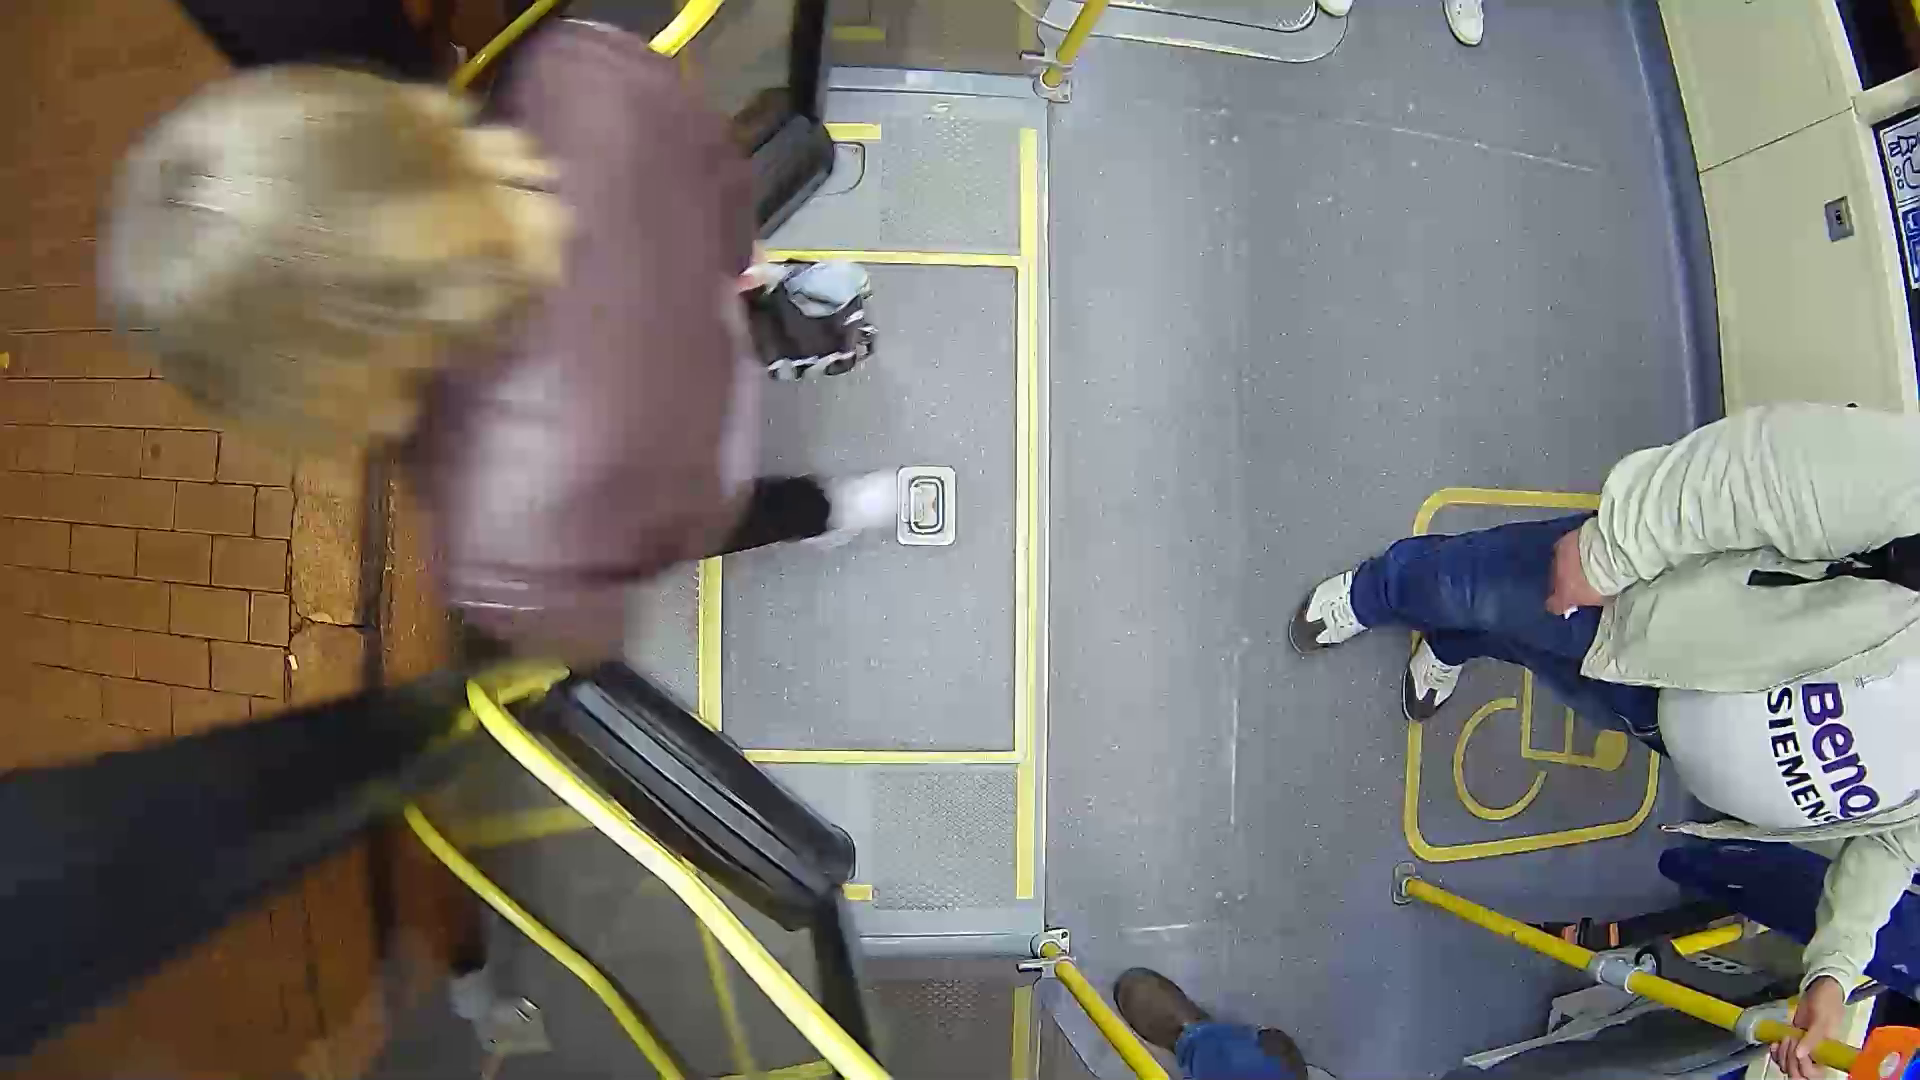person: (93, 35, 969, 691)
